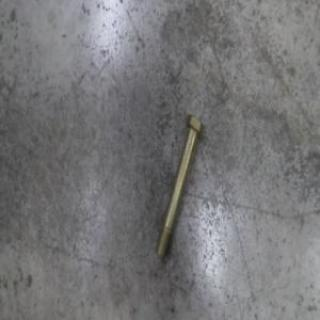Bolttrack_idkeyframe: (154, 112, 203, 260)
